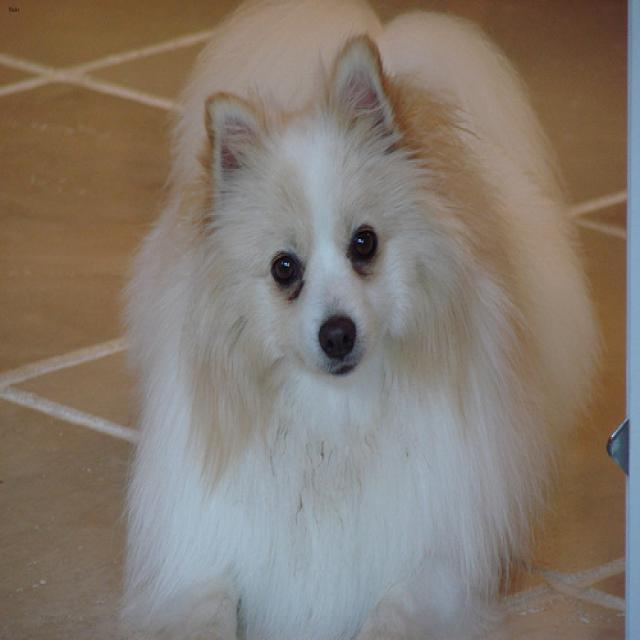dog-pomeranian: (109, 2, 607, 637)
